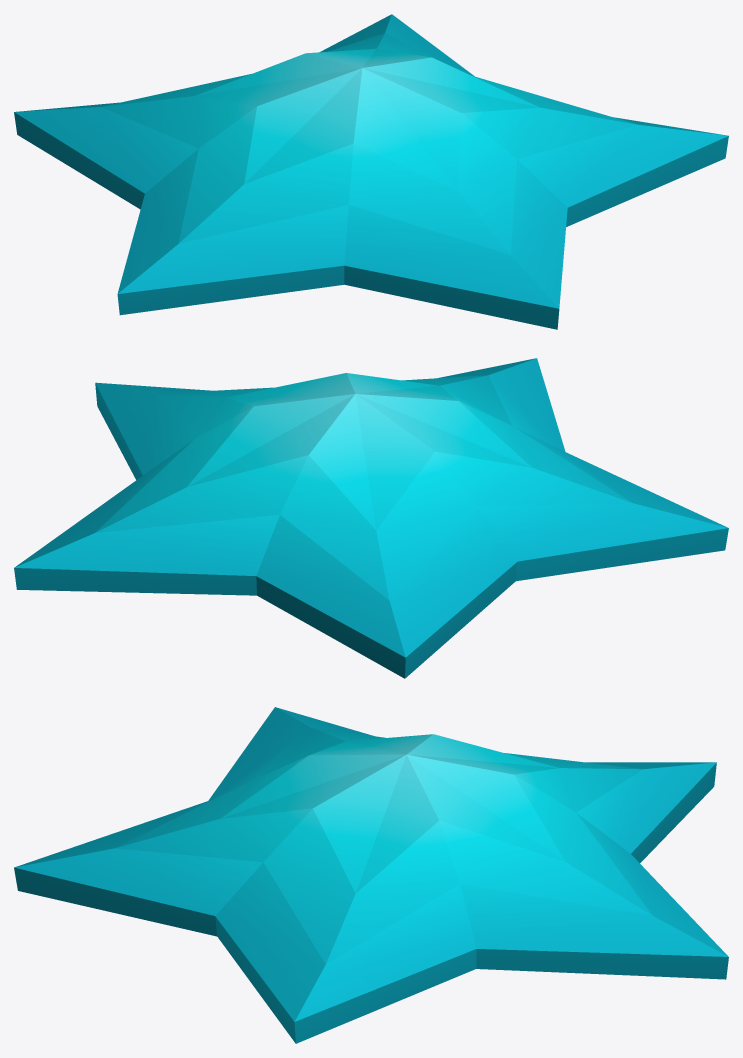
File: Starfish_2.fbx
3 views of the same model, one above another, from view 1: azimuth 30°, elevation 25°; view 2: azimuth 150°, elevation 25°; view 3: azimuth 270°, elevation 25° (orthographic). The views are drawn at different scales.
Visible parts, largest first — view 1: Starfish_2; view 2: Starfish_2; view 3: Starfish_2.
Part boxes in pixels (x1,y1,x2,y2): Starfish_2: (14,14,728,329); Starfish_2: (14,358,728,678); Starfish_2: (14,707,728,1043).
Size of the model in its own units: 260 by 50.73 by 249.
